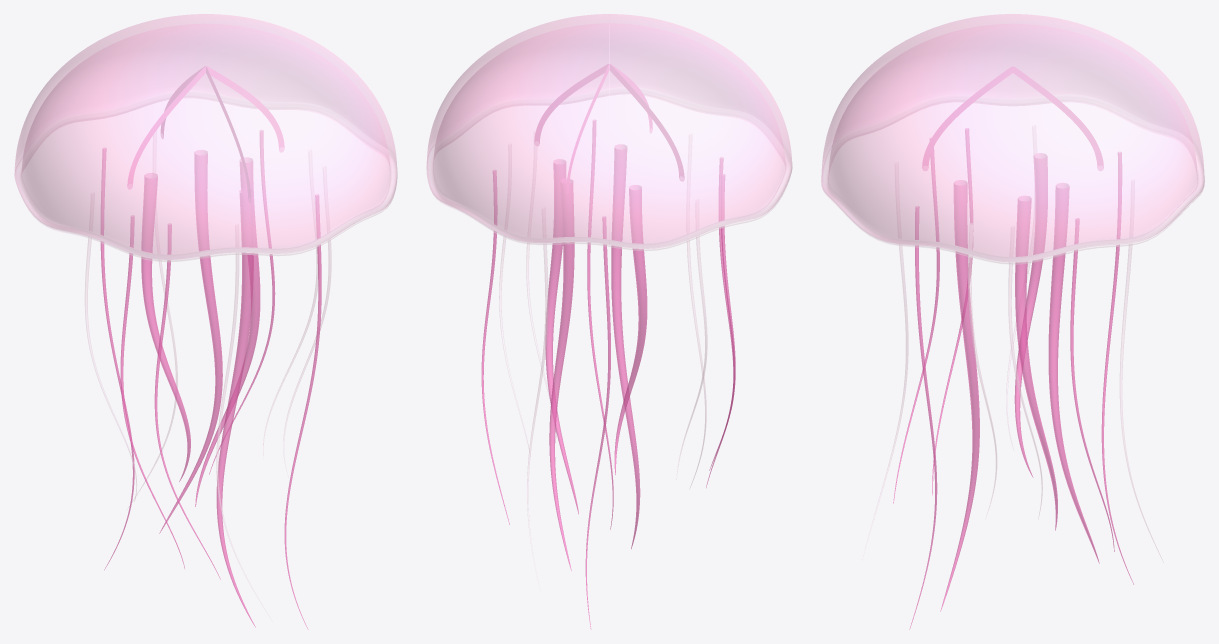
The model's file is glass-jellyfish-pink.glb.
3 views of the same model, side by side, from view 1: azimuth 30°, elevation 25°; view 2: azimuth 150°, elevation 25°; view 3: azimuth 270°, elevation 25° (orthographic). The views are drawn at different scales.
Parts seen in each view (by area): view 1: Thin rounded glass bell, Soft glass lip, Inner flowing arm 12, Inner flowing arm 11, Inner flowing arm 13, Inner flowing arm 14, Fine glass tentacle 4, Fine glass tentacle 8, Fine glass tentacle 7, Fine glass tentacle 2, Fine glass tentacle 10, Fine glass tentacle 6 (+6 smaller); view 2: Thin rounded glass bell, Inner flowing arm 12, Soft glass lip, Inner flowing arm 11, Inner flowing arm 14, Inner flowing arm 13, Fine glass tentacle 4, Fine glass tentacle 8, Fine glass tentacle 3, Fine glass tentacle 6, Fine glass tentacle 10, Fine glass tentacle 7 (+6 smaller); view 3: Thin rounded glass bell, Soft glass lip, Inner flowing arm 12, Inner flowing arm 11, Inner flowing arm 14, Inner flowing arm 13, Fine glass tentacle 8, Fine glass tentacle 4, Fine glass tentacle 3, Fine glass tentacle 7, Fine glass tentacle 6, Fine glass tentacle 2 (+5 smaller).
Part boxes in pixels (<box>): Thin rounded glass bell: <box>14,14,397,259</box>; Soft glass lip: <box>14,151,397,262</box>; Inner flowing arm 12: <box>216,189,255,627</box>; Inner flowing arm 11: <box>159,150,222,533</box>; Inner flowing arm 13: <box>141,173,190,481</box>; Inner flowing arm 14: <box>195,158,260,506</box>; Fine glass tentacle 4: <box>284,195,321,629</box>; Fine glass tentacle 8: <box>100,148,134,570</box>; Fine glass tentacle 7: <box>216,225,272,621</box>; Fine glass tentacle 2: <box>154,224,220,579</box>; Fine glass tentacle 10: <box>120,215,184,568</box>; Fine glass tentacle 6: <box>209,130,275,474</box>; Thin rounded glass bell: <box>426,14,792,248</box>; Inner flowing arm 12: <box>611,144,640,548</box>; Soft glass lip: <box>426,145,792,251</box>; Inner flowing arm 11: <box>549,179,574,570</box>; Inner flowing arm 14: <box>545,159,578,513</box>; Inner flowing arm 13: <box>614,185,647,474</box>; Fine glass tentacle 4: <box>587,120,613,529</box>; Fine glass tentacle 8: <box>585,216,610,629</box>; Fine glass tentacle 3: <box>527,209,548,592</box>; Fine glass tentacle 6: <box>481,170,509,524</box>; Fine glass tentacle 10: <box>706,174,735,487</box>; Fine glass tentacle 7: <box>687,134,706,487</box>; Thin rounded glass bell: <box>821,14,1204,262</box>; Soft glass lip: <box>821,145,1204,264</box>; Inner flowing arm 12: <box>940,180,979,611</box>; Inner flowing arm 11: <box>1048,183,1099,563</box>; Inner flowing arm 14: <box>1015,196,1057,530</box>; Inner flowing arm 13: <box>1014,153,1047,477</box>; Fine glass tentacle 8: <box>1101,152,1133,584</box>; Fine glass tentacle 4: <box>909,206,937,629</box>; Fine glass tentacle 3: <box>1119,181,1163,562</box>; Fine glass tentacle 7: <box>862,163,908,560</box>; Fine glass tentacle 6: <box>1070,218,1114,551</box>; Fine glass tentacle 2: <box>893,138,939,503</box>.
Bounding box in the file's own units: 1.4 × 2.29 × 1.4.
